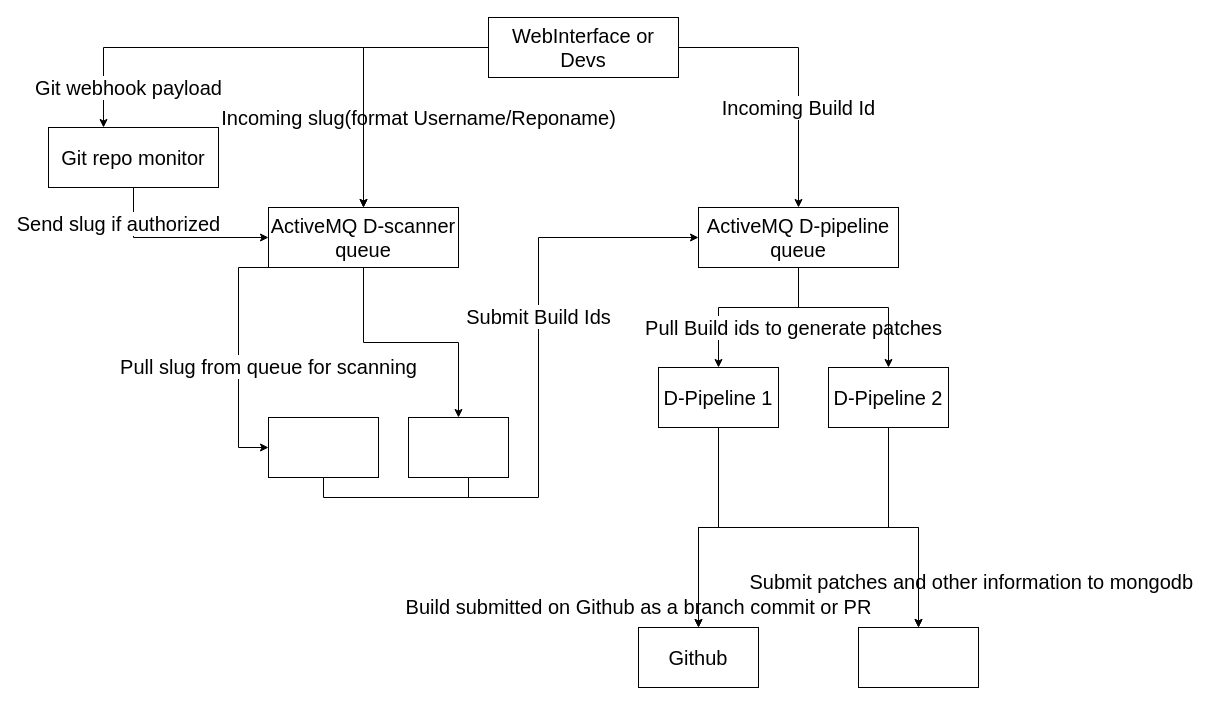
Some shapes in this 1210 by 705 pixel diagram are drawn without their labels. Each missing label, with the centre of its shape:
Mongodb: (918,657)
Scanner 1: (323,447)
Scanner 2: (458,447)
